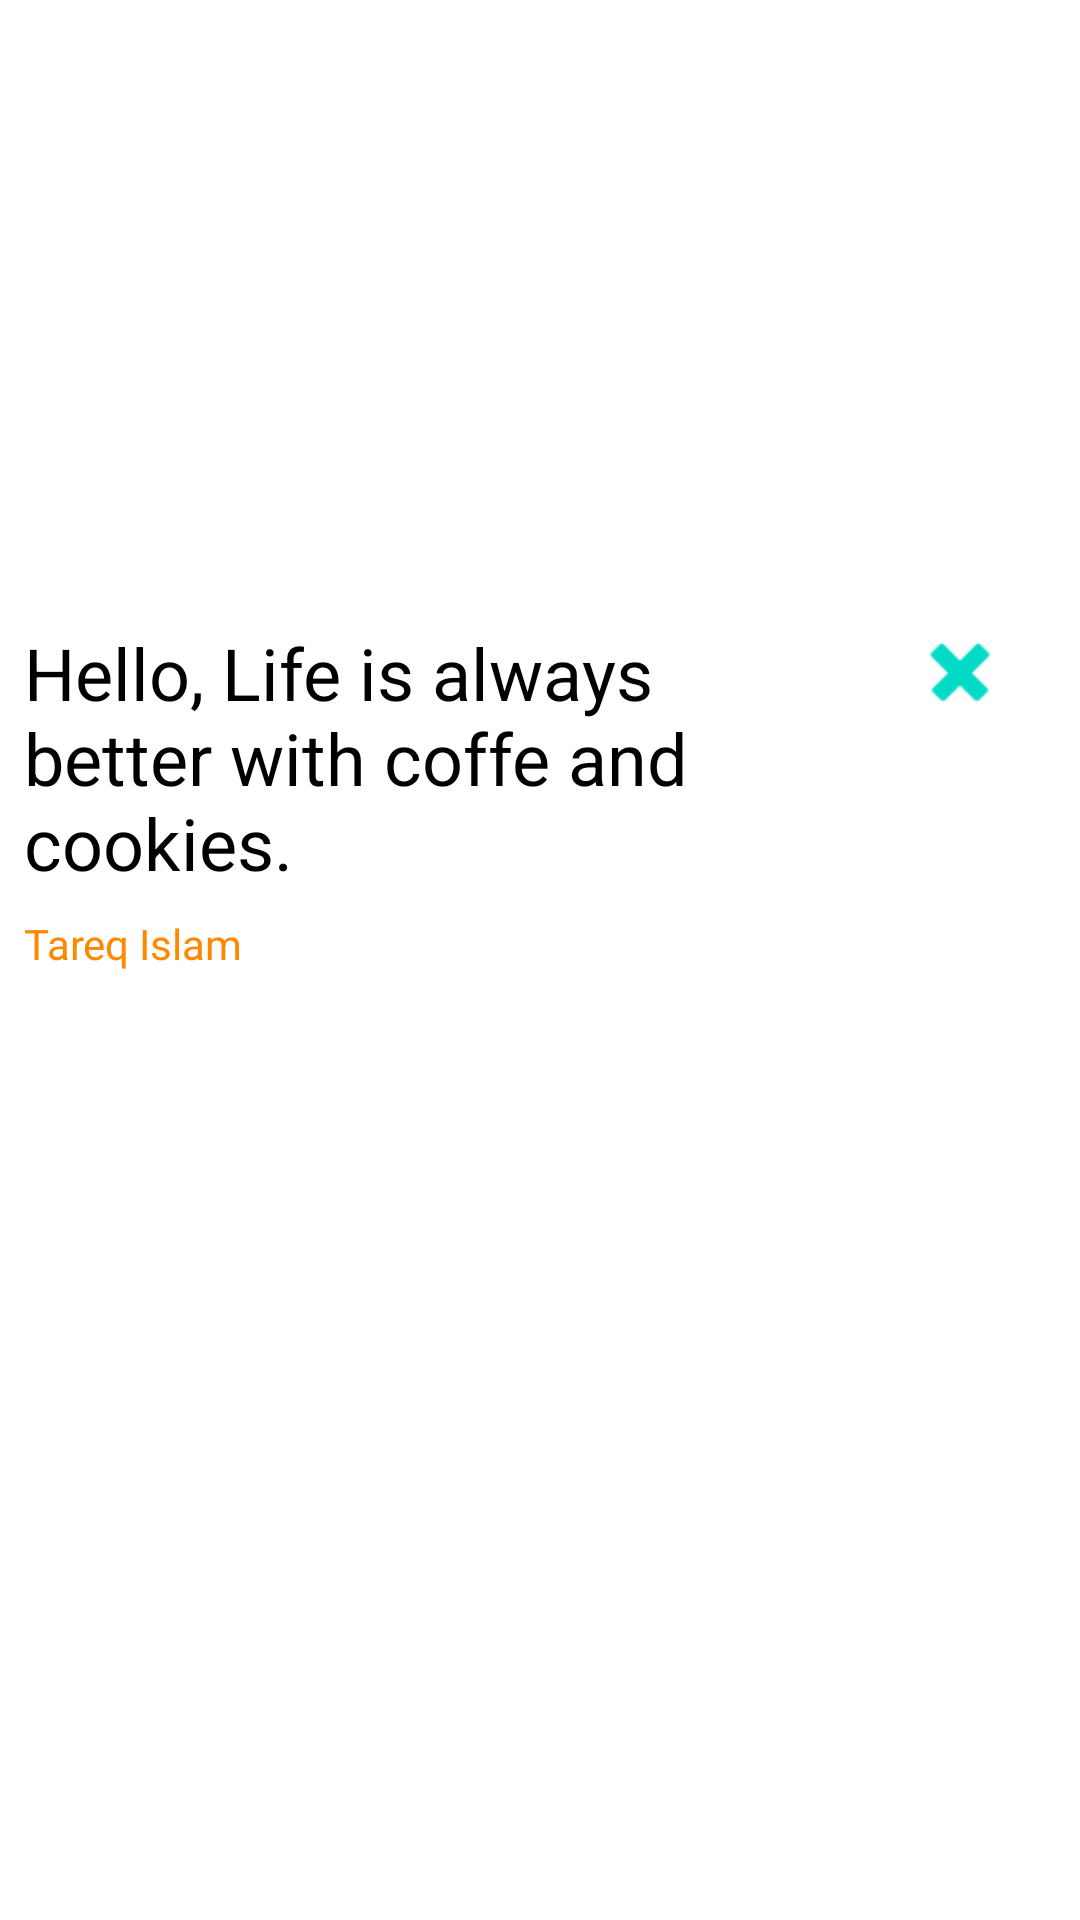

Screen size 1080w x 1920h. Icon name, then its center in pixels as (x,y):
delete: (960,672)
